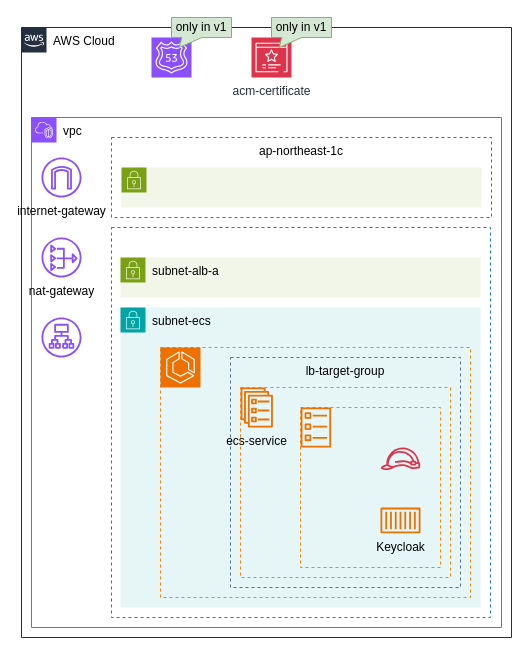
The diagram is 529 pixels wide and 655 high, and some of its shapes have lost their labels. Here are the shapes that lost their labels. From the top down, the box of each, then its label:
(150, 36, 192, 78): route53 -record-a route53-record-cname
(120, 166, 482, 208): subnet-alb-c
(41, 317, 81, 357): alb
(160, 346, 200, 388): ecs-cluster
(110, 226, 490, 618): ap-northeast-1a
(300, 407, 331, 447): ecs-task-definition
(380, 447, 420, 470): iam-role-ecs-task-execution
